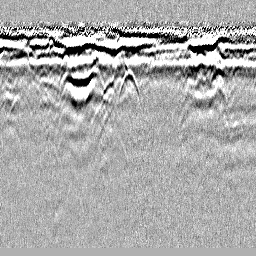cavity: (117, 68, 140, 102)
